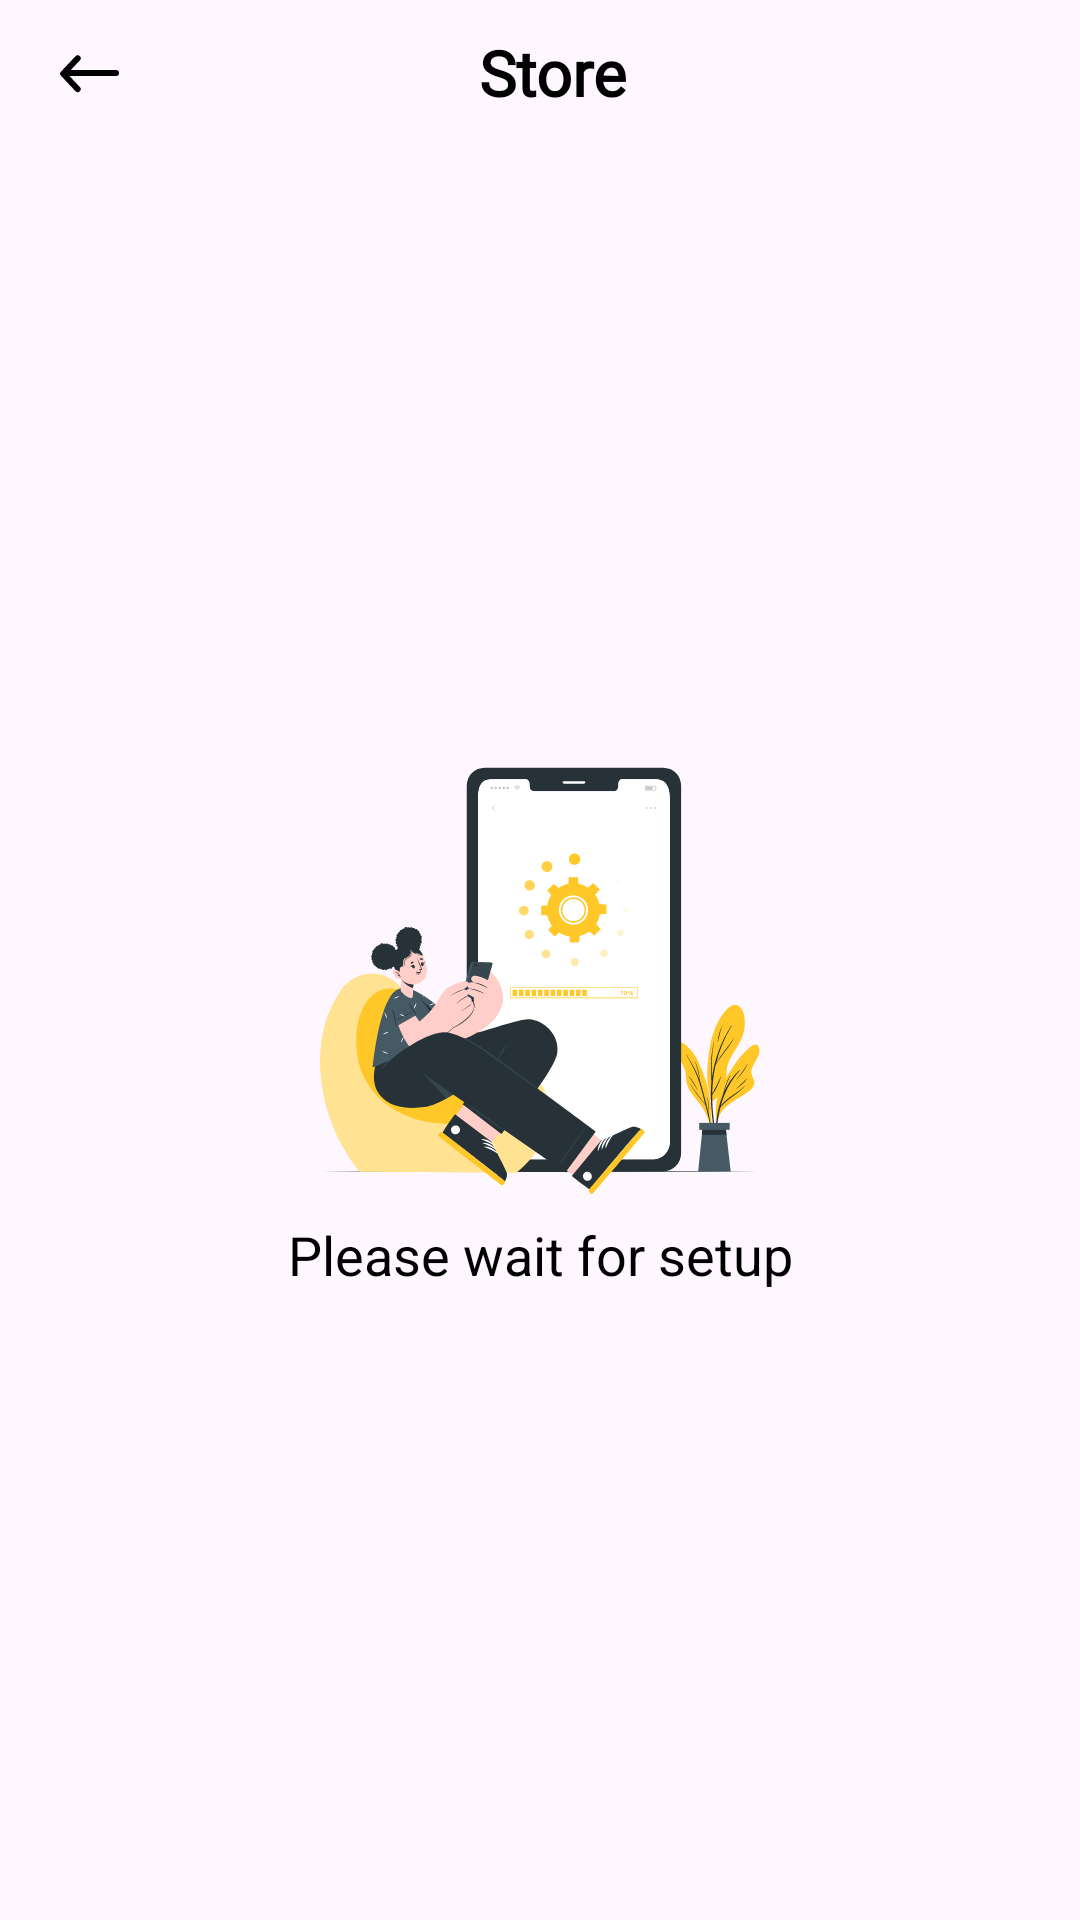

Named icons in this screenshot (1080w x 1920h) and their bounding boxes, {"left": x1, "top": y1, "right": x2, "bottom": y2}:
back: {"left": 60, "top": 55, "right": 119, "bottom": 93}
